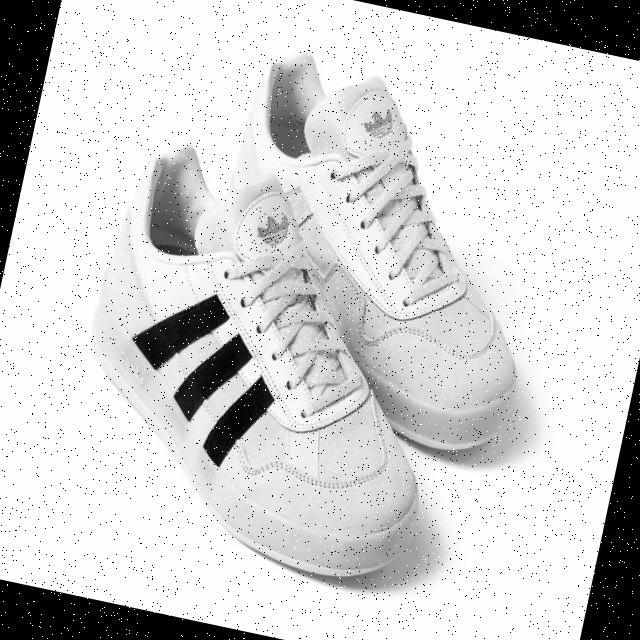Adidas: (247, 202, 298, 258), (357, 93, 406, 151)
